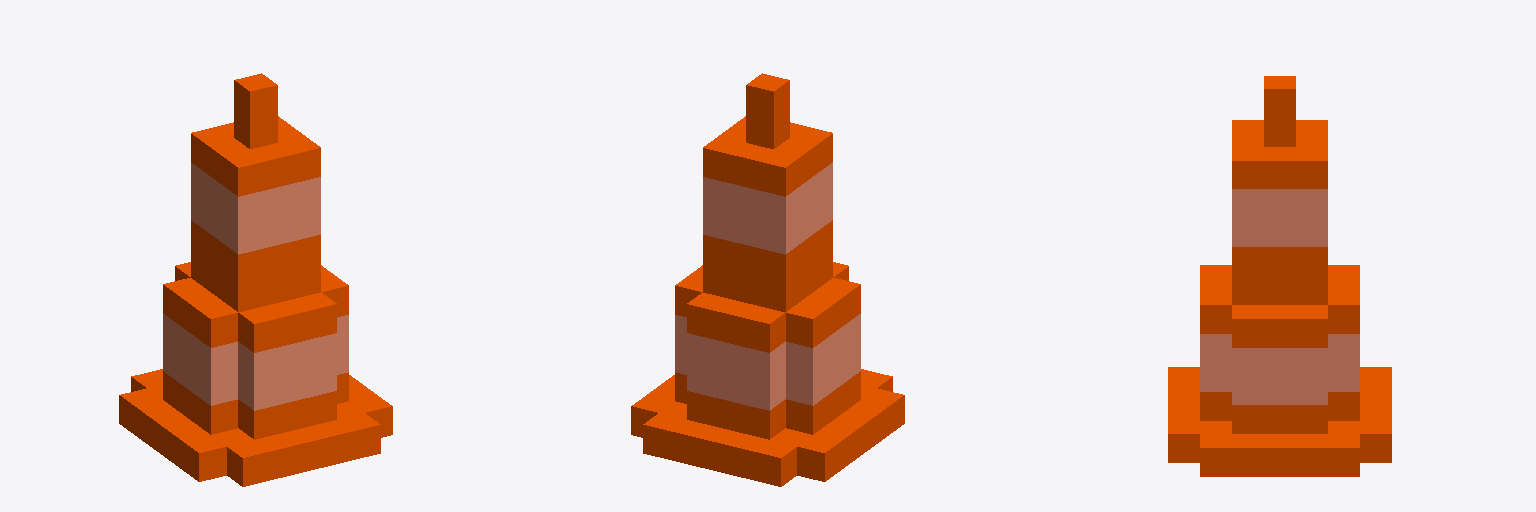
The picture shows the model from 3 angles: view 1: azimuth 30°, elevation 25°; view 2: azimuth 150°, elevation 25°; view 3: azimuth 270°, elevation 25°; orthographic projection.
Visible parts, largest first — view 1: object 1; view 2: object 1; view 3: object 1.
Boxes of the visible parts, box(x1,y1,x2,y2) form: object 1: box(119, 73, 392, 486); object 1: box(631, 73, 904, 486); object 1: box(1168, 76, 1391, 476).
Bounding box in the file's own units: 0.7 × 1.2 × 0.7.
Materials: 1 (1 with a texture image).